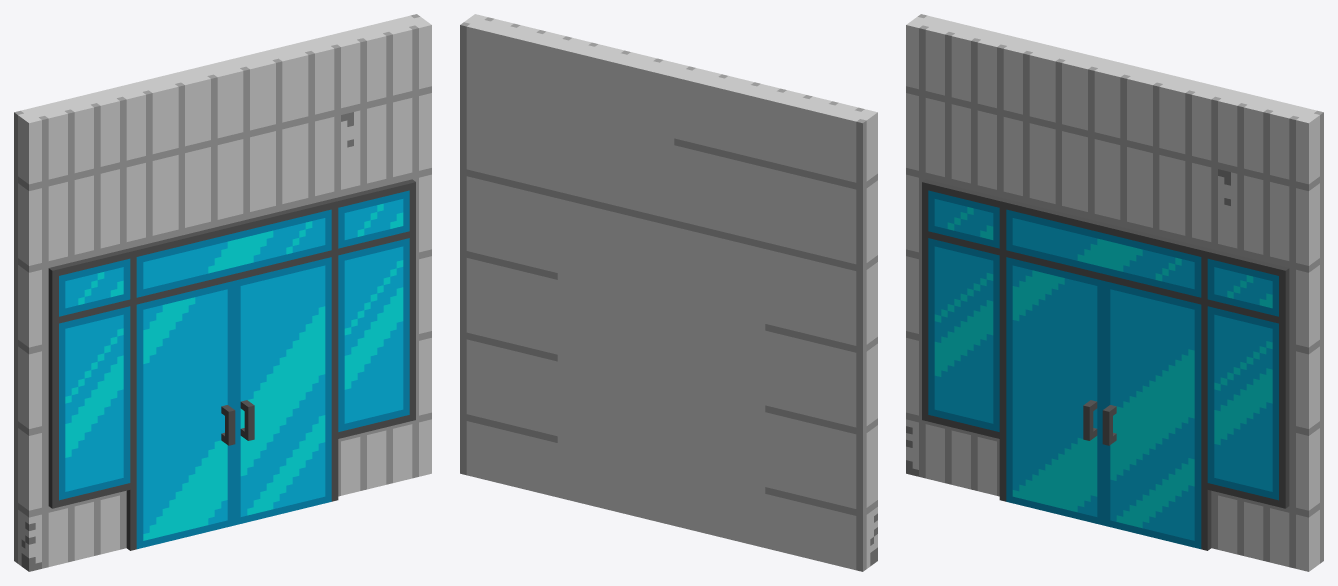
File: retroOne.glb
3 renders of one model, left to right at view 1: azimuth 30°, elevation 25°; view 2: azimuth 150°, elevation 25°; view 3: azimuth 330°, elevation 25°, orthographic.
Visible parts, largest first — view 1: ObjObject; view 2: ObjObject; view 3: ObjObject.
Part boxes in pixels (box(x1,y1,x2,y2)): ObjObject: box(14, 14, 431, 571); ObjObject: box(460, 14, 877, 571); ObjObject: box(906, 14, 1323, 571).
Size of the model in its own units: 6.2 by 6.6 by 0.7.
Materials: 1 (1 with a texture image).
